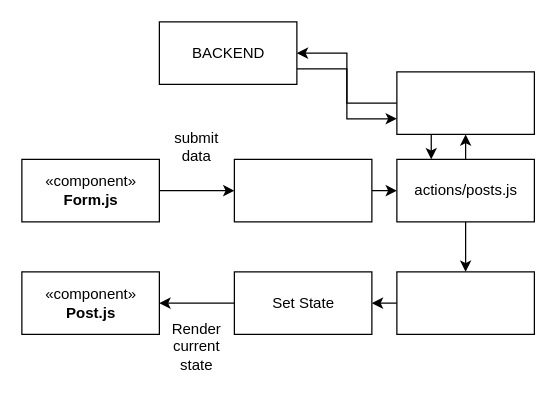
The diagram is 556 pixels wide and 395 high, and some of its shapes have lost their labels. The shapes that lost their labels are listed below. From the top down, each one's box as (x1, y1, x2, y2) in pixels, then its label:
(396, 71, 534, 134): api/index.js
(233, 158, 372, 222): Redux - dispatch
(396, 271, 534, 334): reducers/posts.js
